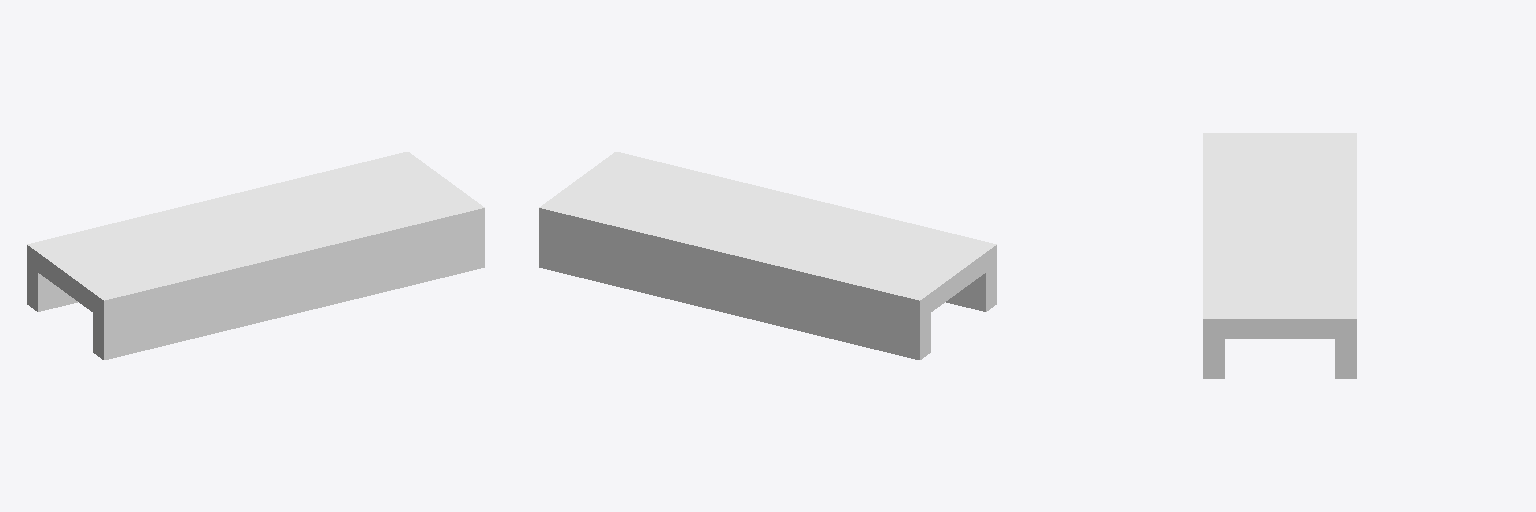
The model's file is tronco.obj.
3 views of the same model, side by side, from view 1: azimuth 30°, elevation 25°; view 2: azimuth 150°, elevation 25°; view 3: azimuth 270°, elevation 25° (orthographic).
Size of the model in its own units: 40 by 6 by 14.